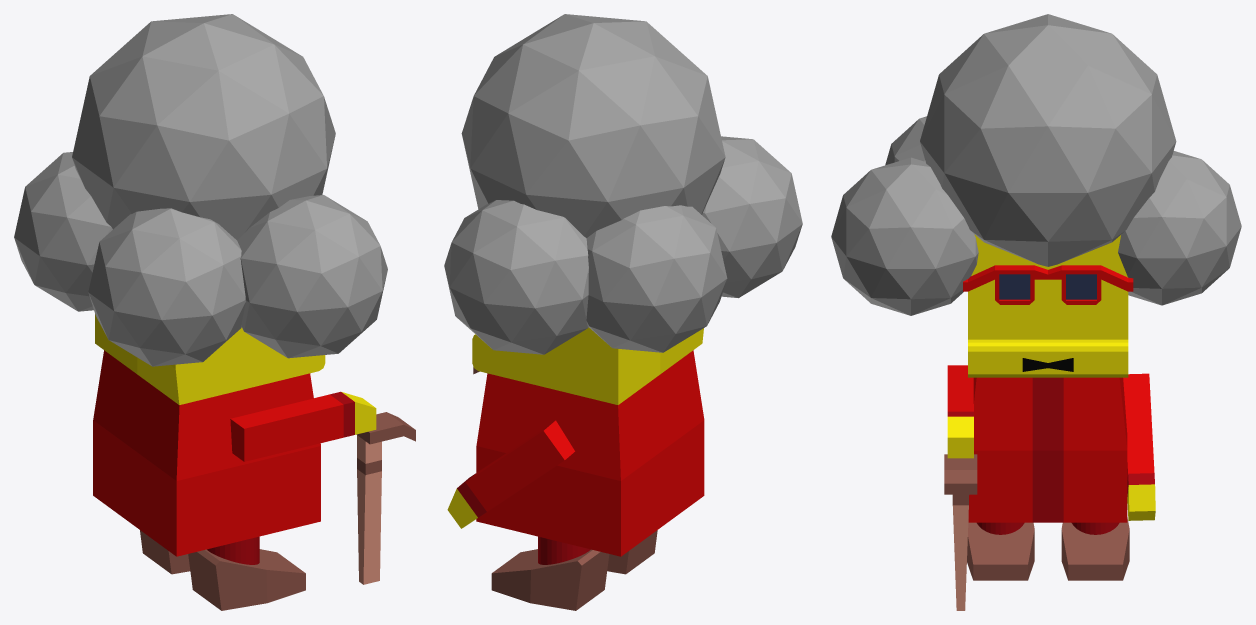
Rendered from Grandma.fbx.
The picture shows the model from 3 angles, left to right: view 1: azimuth 30°, elevation 25°; view 2: azimuth 150°, elevation 25°; view 3: azimuth 270°, elevation 25°; orthographic projection. The views are drawn at different scales.
Parts seen in each view (by area): view 1: Grandma; view 2: Grandma; view 3: Grandma.
Boxes of the visible parts, x1,y1,x2,y2 form: Grandma: (14, 14, 415, 610); Grandma: (444, 14, 802, 610); Grandma: (831, 14, 1241, 610).
Bounding box in the file's own units: 1.41 × 1.72 × 2.44.
